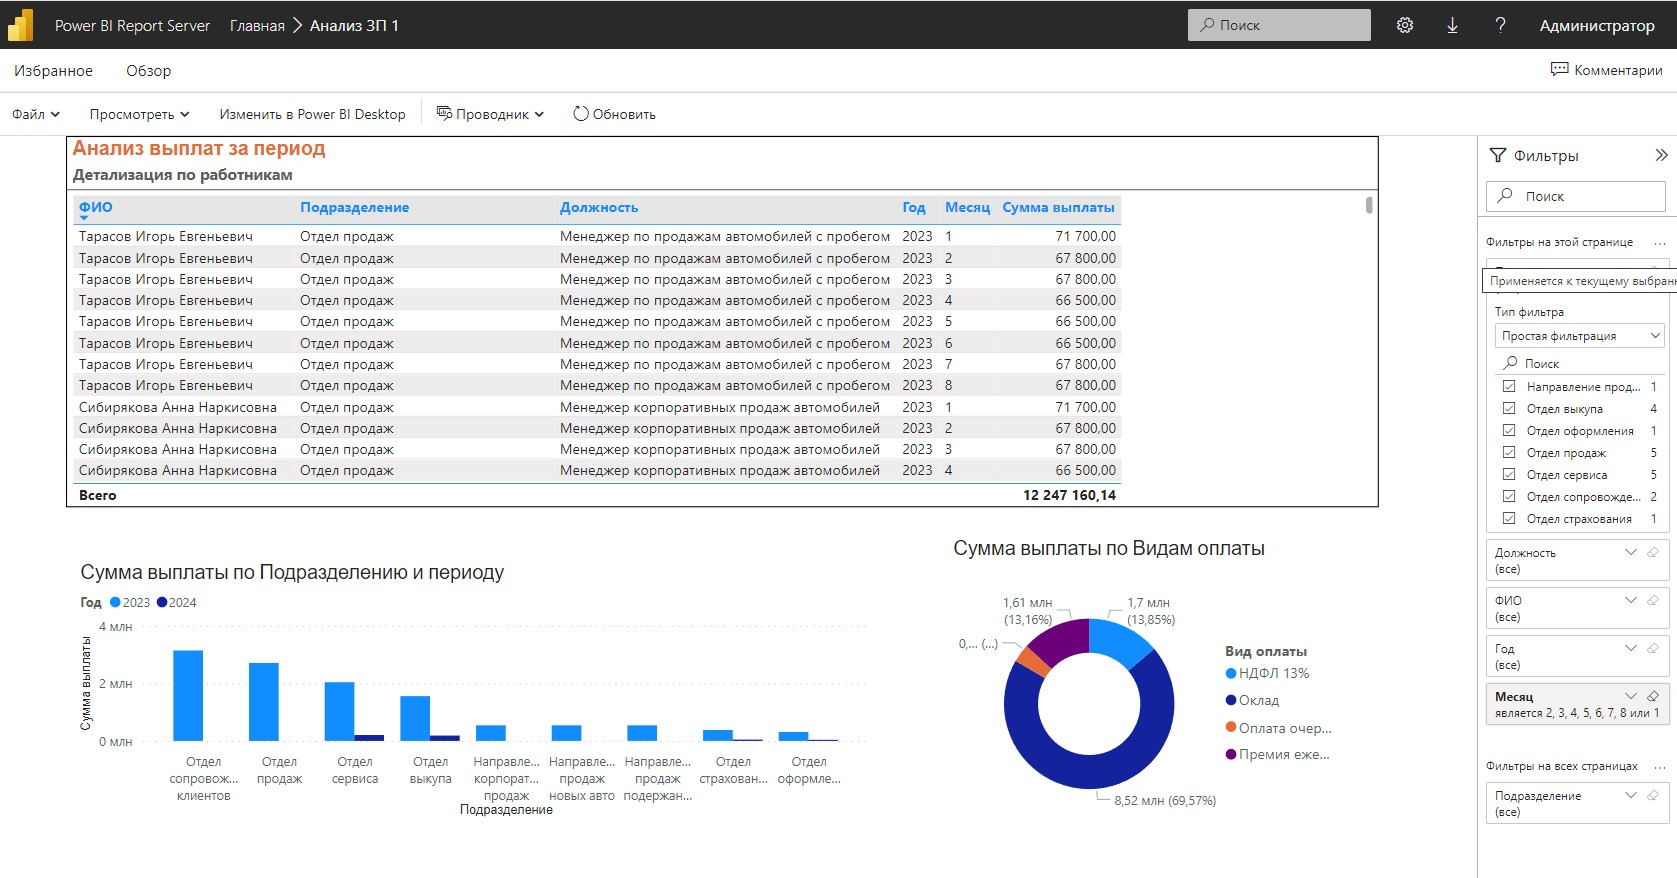

The dashboard page shown, as its layout file describes it:
{"tool":"powerbi","page":{"name":"Страница 1","canvas":[1280,720],"ordinal":0},"visuals":[{"type":"tableEx","title":"Анализ выплат за период","fields":{"Values":["Dimension People1.Full_Name","Dimension People1.Struct_name","Dimension People1.app_name","Fact Lic.tyear (группы)","Fact Lic.tmonth (группы)","Sum(Fact Lic.summa)"]},"box":[9.7,0,1234.3,349.2],"z":0},{"type":"clusteredColumnChart","title":"Сумма выплаты по Подразделению и периоду","fields":{"Category":["Dimension People1.Struct_name"],"Series":["Fact Lic.tyear (группы)"],"Y":["Sum(Fact Lic.summa)"]},"box":[17.5,399.8,751.9,245.1],"z":1000},{"type":"donutChart","title":"Сумма выплаты по Видам оплаты","fields":{"Y":["Sum(Fact Lic.summa)"],"Series":["Dimension Typ_pay.Name_pay"]},"box":[838.4,377.4,375.4,294.7],"z":2000}]}

Visuals, with their boxes on the page's 1280x720 design canvas (x1, y1, x2, y2). These are canvas units, not pixel positions in the 1677x878 screenshot, which may show the page scaled, cropped or inside an application window:
"Анализ выплат за период" tableEx: {"left": 10, "top": 0, "right": 1244, "bottom": 349}
"Сумма выплаты по Подразделению и периоду" clusteredColumnChart: {"left": 18, "top": 400, "right": 769, "bottom": 645}
"Сумма выплаты по Видам оплаты" donutChart: {"left": 838, "top": 377, "right": 1214, "bottom": 672}
